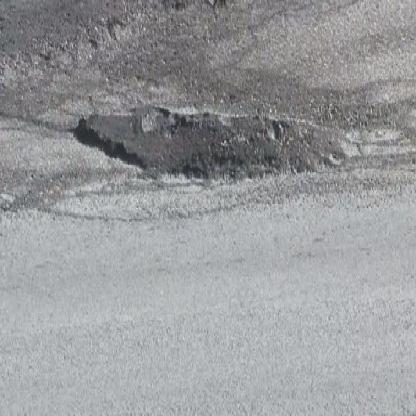pothole: (70, 107, 347, 197)
